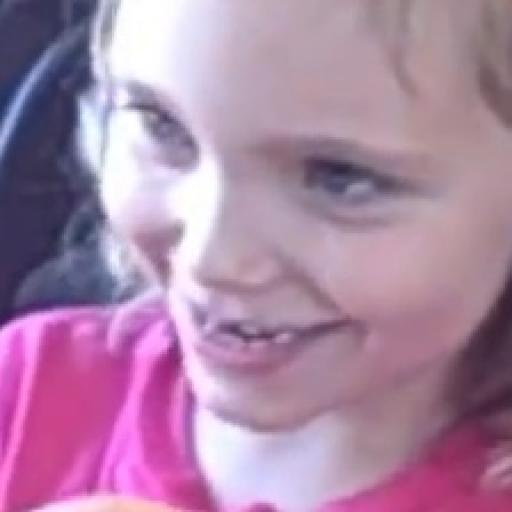Autism: (70, 2, 512, 468)
